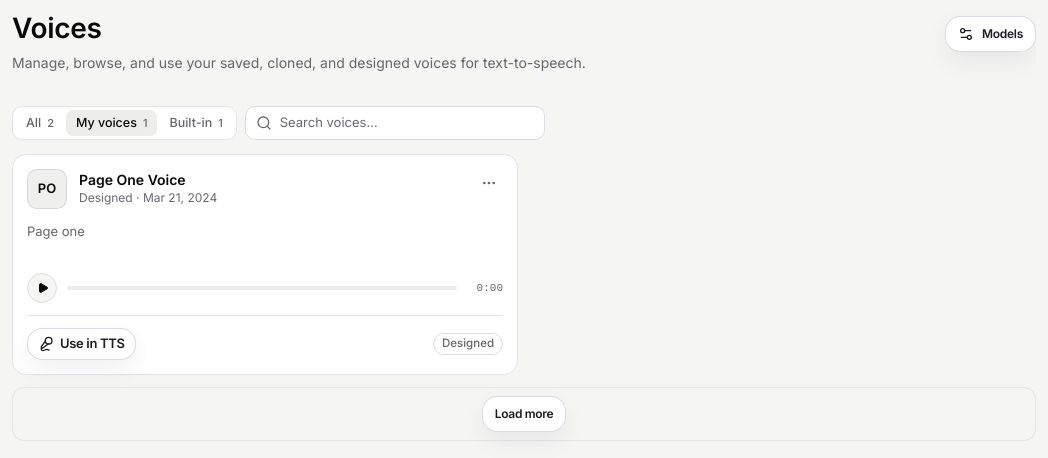
Test: VoicesPage › loads more saved voices
Expected: the heading "Page One Voice" is shown, [79, 171, 186, 188]
Click the button "Load more" at (524, 414), box [482, 396, 566, 432]
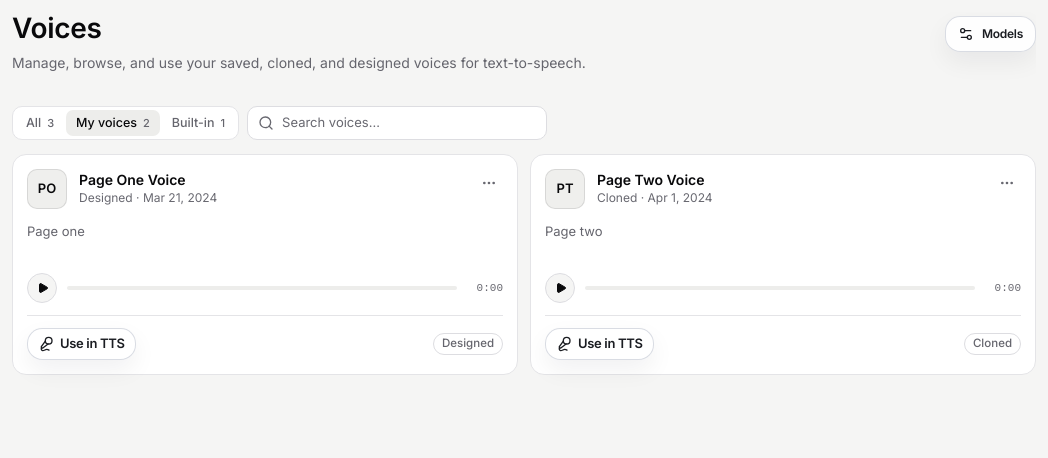
Expected: the heading "Page One Voice" is shown, [79, 171, 186, 188]
Now the heading "Page Two Voice" is shown, box [597, 171, 704, 188]
